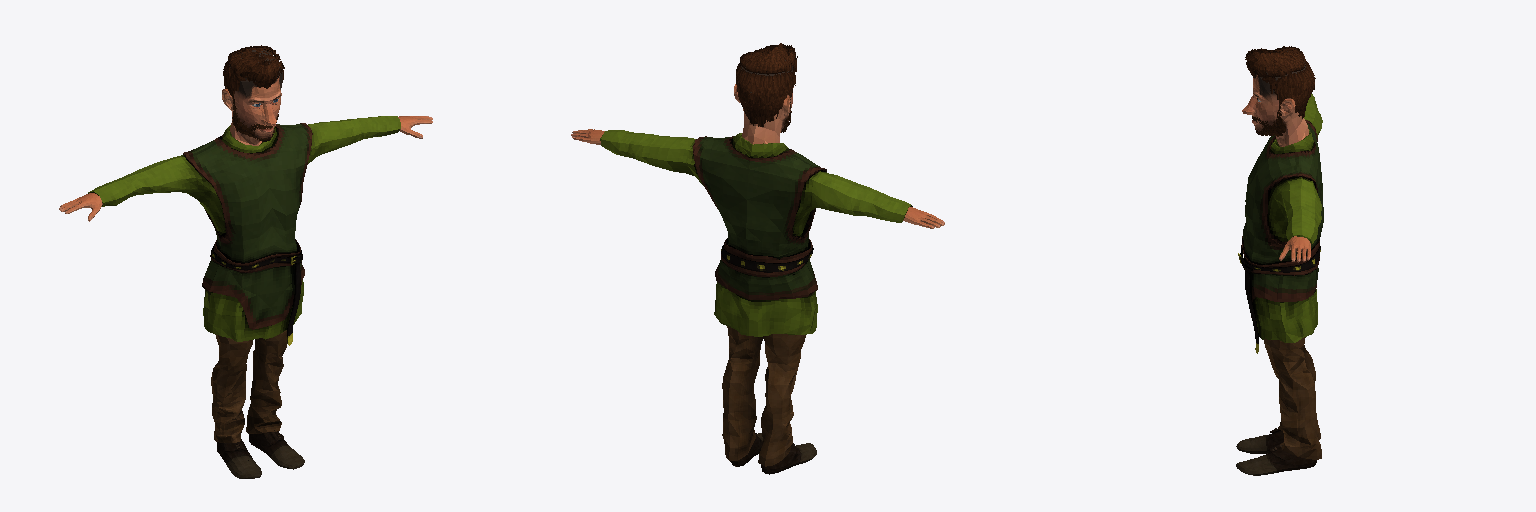
3 renders of one model, left to right at view 1: azimuth 30°, elevation 25°; view 2: azimuth 150°, elevation 25°; view 3: azimuth 270°, elevation 25°, orthographic.
Visible parts, largest first — view 1: Tops, Bottoms, Body, Shoes, Hair; view 2: Tops, Bottoms, Hair, Body, Shoes; view 3: Tops, Bottoms, Hair, Body, Shoes.
Part boxes in pixels (x1,y1,x2,y2): Tops: (88, 116, 400, 345); Bottoms: (211, 330, 286, 442); Body: (59, 50, 432, 221); Shoes: (217, 430, 304, 478); Hair: (223, 45, 284, 103); Tops: (600, 130, 912, 336); Bottoms: (722, 326, 805, 466); Hair: (736, 43, 797, 126); Body: (571, 60, 944, 228); Shoes: (730, 433, 816, 474); Tops: (1238, 94, 1323, 353); Bottoms: (1264, 337, 1321, 459); Hair: (1245, 46, 1315, 118); Body: (1242, 51, 1310, 262); Shoes: (1236, 428, 1316, 475).
Bounding box in the file's own units: 186 × 195 × 37.87.
Materials: 1 (1 with a texture image).